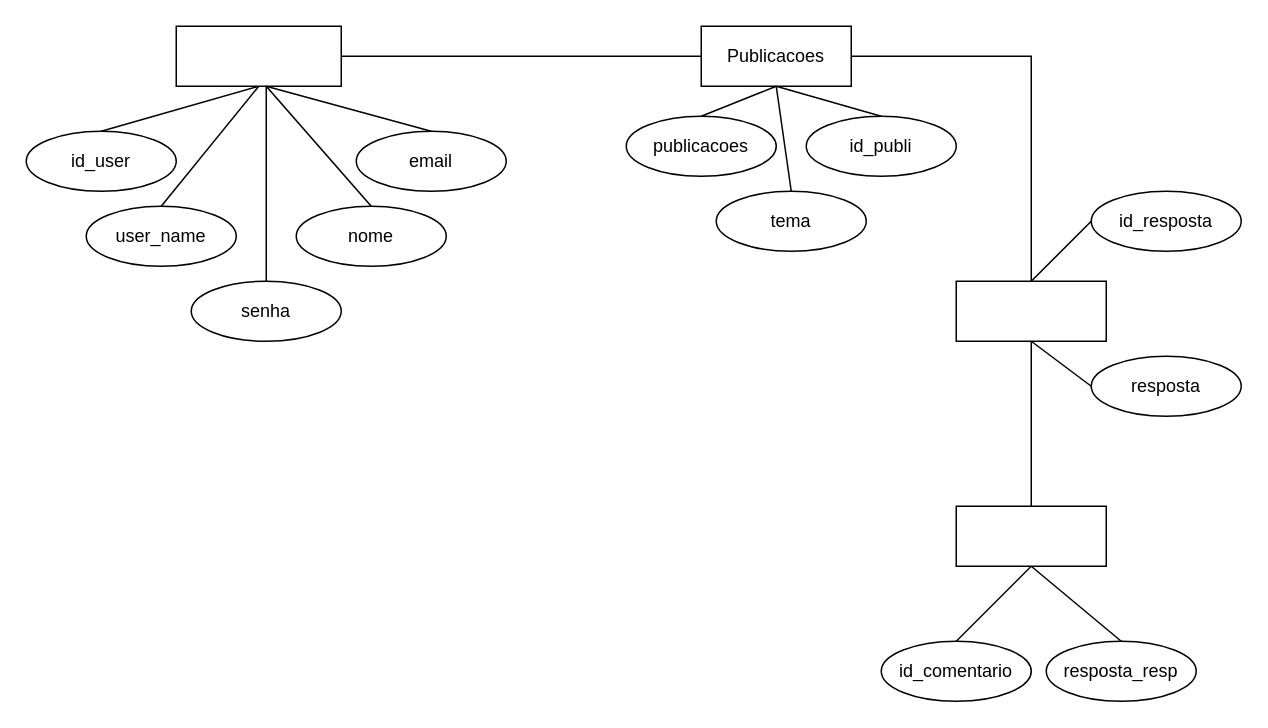
The diagram is 1268 pixels wide and 728 high, and some of its shapes have lost their labels. Each missing label, with the centre of its shape:
Respostas: [1030,310]
Respostas_resp: [1030,535]
user: [258,55]
